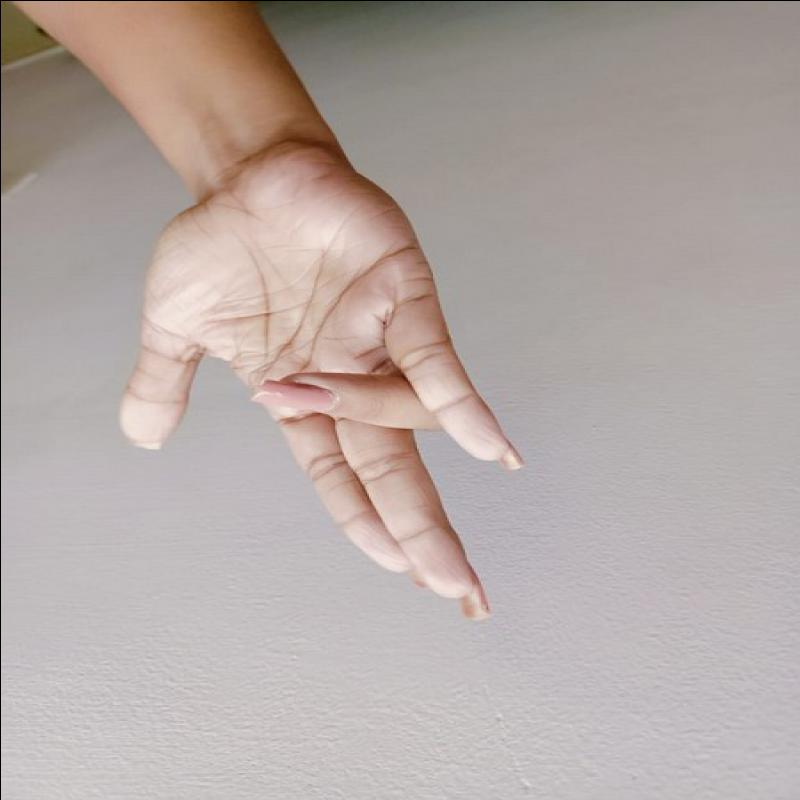Pathaaka: (76, 133, 573, 629)
